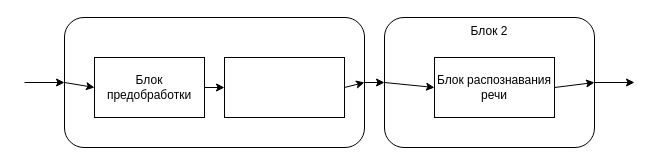
The diagram is 660 pixels wide and 165 high, and some of its shapes have lost their labels. Each missing label, with the box of its shape:
Блок 1: (64, 16, 364, 148)
Блок выделения речевых признаков: (224, 56, 344, 118)
